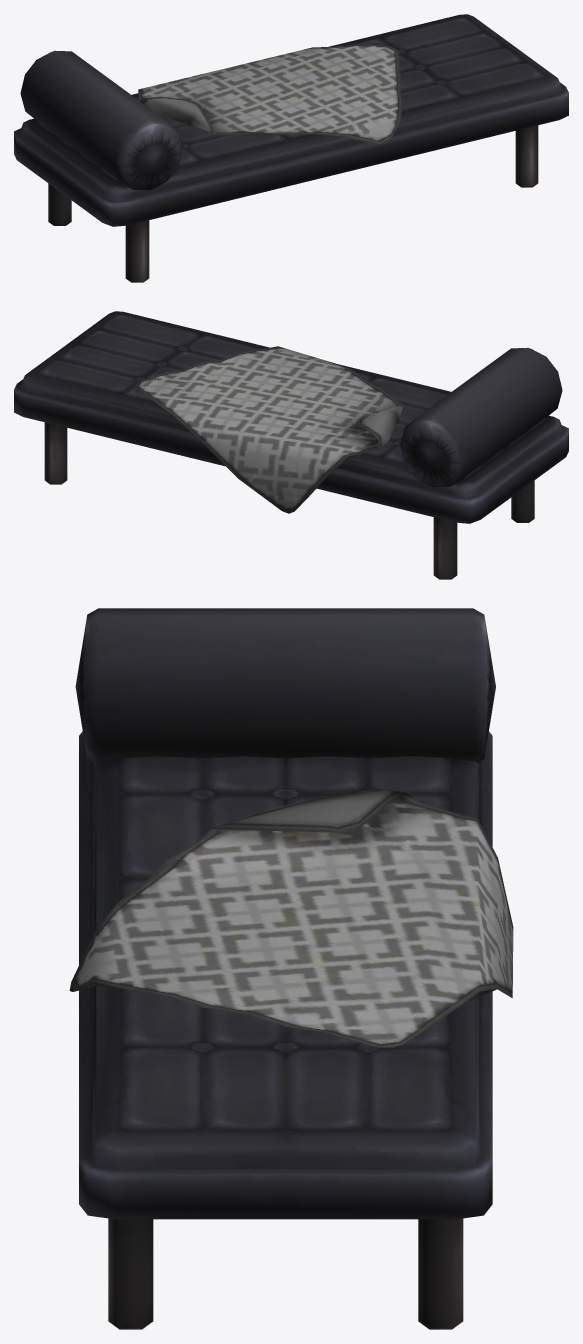
File: furn_we2021_bed_001.gltf
3 views of the same model, one above another, from view 1: azimuth 30°, elevation 25°; view 2: azimuth 150°, elevation 25°; view 3: azimuth 270°, elevation 25° (orthographic). The views are drawn at different scales.
Visible parts, largest first — view 1: we2021_bed_001; view 2: we2021_bed_001; view 3: we2021_bed_001.
Boxes of the visible parts, x1,y1,x2,y2 form: we2021_bed_001: (14,14,568,282); we2021_bed_001: (14,311,568,579); we2021_bed_001: (69,608,513,1329).
Bounding box in the file's own units: 1.47 × 0.4994 × 0.6111.
1 material, 1 textured.
